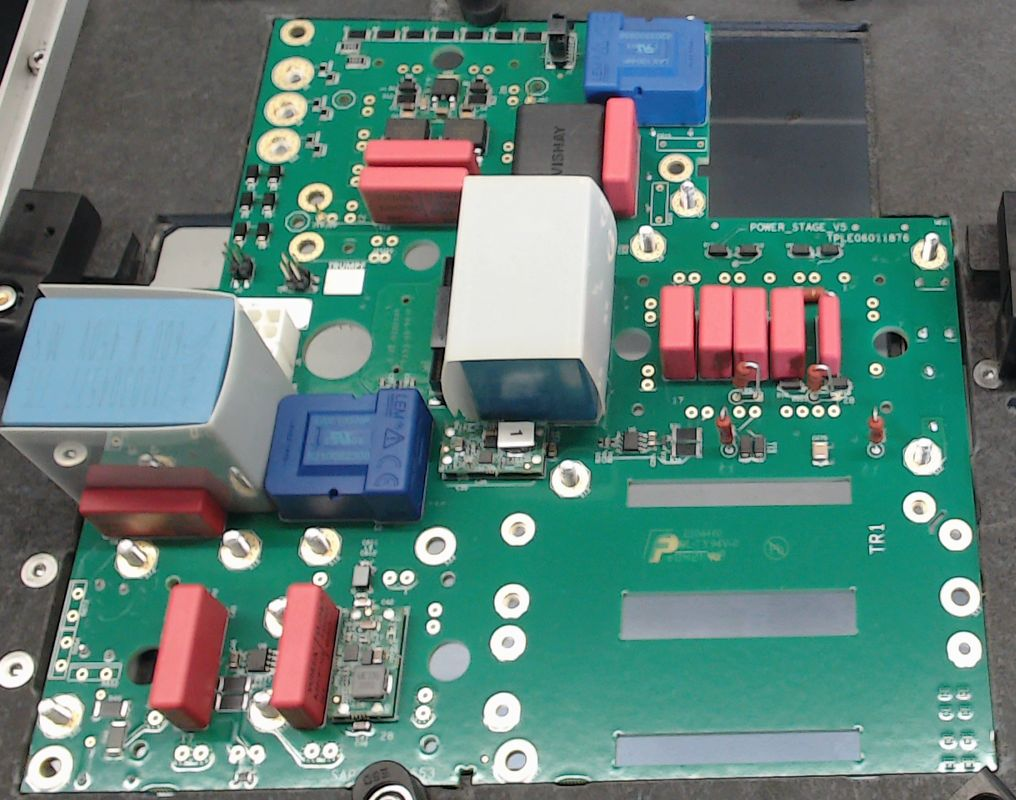comp1: (267, 388, 431, 521), (585, 14, 708, 123)
comp2: (149, 585, 228, 730), (272, 585, 339, 728), (77, 488, 228, 536), (359, 169, 471, 224), (602, 99, 639, 215), (658, 285, 697, 381), (697, 284, 734, 381), (769, 285, 805, 380), (733, 285, 768, 380), (364, 138, 477, 166), (817, 294, 842, 372)
comp3: (510, 102, 604, 178)
comp4: (1, 282, 299, 509), (442, 176, 615, 423)
